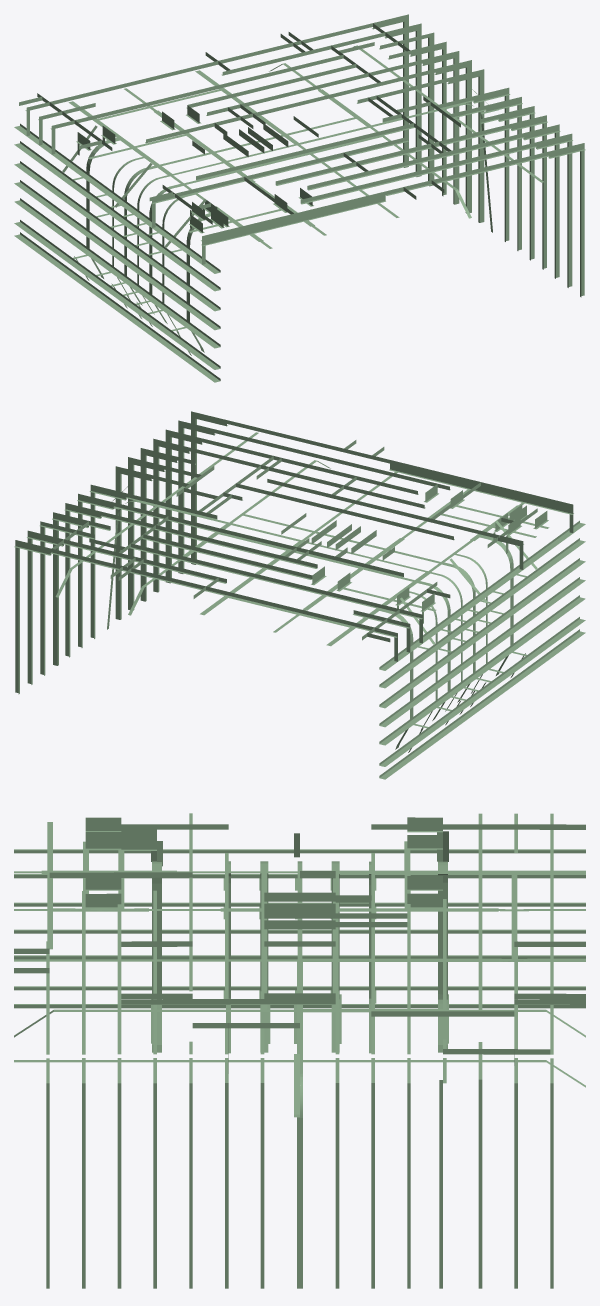
The model's file is AFT_STORE.glb.
The picture shows the model from 3 angles, top to bottom: view 1: azimuth 30°, elevation 25°; view 2: azimuth 150°, elevation 25°; view 3: azimuth 270°, elevation 25°; orthographic projection. The views are drawn at different scales.
Parts seen in each view (by area): view 1: ST_UDxAPTSxDL07xWeb_075003-TW_350x19+150x25_NVA36_2014, ST_UDxAPTSxDL07xWeb_075001-TW_350x19+150x25_NVA36_2014, ST_UDxAPTPxDL05xWeb_050003-IA_150x90x12x12_NVA_1993, ST_UDxAPTSxDL02xWeb_054003-IA_150x90x12x12_NVA_1993, ST_UDxAPTPxDL07xWeb_046003-IA_150x90x12x12_NVA_1993, ST_UDxAPTSxDL03xWeb_053003-IA_150x90x12x12_NVA_1993, ST_UDxAPTPxDL02xWeb_055003-IA_150x90x12x12_NVA_1993, ST_UDxAPTPxDL02xWeb_055005-IA_150x90x12x12_NVA_1993, ST_UDxAPTSxDL05xWeb_050003-IA_150x90x12x12_NVA_1993, ST_UDxAPTSxDL06xWeb_051003-IA_150x90x12x12_NVA_1993, ST_UDxAPTPxDL03xWeb_054003-IA_150x90x12x12_NVA_1993, ST_UDxAPTSxDL07xWeb_052003-IA_150x90x12x12_NVA_1993 (+5 smaller); view 2: ST_UDxAPTSxDL07xWeb_075003-TW_350x19+150x25_NVA36_2014, ST_UDxAPTSxDL07xWeb_075001-TW_350x19+150x25_NVA36_2014, ST_UDxAPTSxDL03xWeb_053003-IA_150x90x12x12_NVA_1993, ST_UDxAPTPxDL05xWeb_050003-IA_150x90x12x12_NVA_1993, ST_UDxAPTSxDL02xWeb_054003-IA_150x90x12x12_NVA_1993, ST_UDxAPTPxDL02xWeb_055003-IA_150x90x12x12_NVA_1993, ST_UDxAPTPxDL07xWeb_046003-IA_150x90x12x12_NVA_1993, ST_UDxAPTSxDL06xWeb_051003-IA_150x90x12x12_NVA_1993, ST_UDxAPTSxDL07xWeb_052003-IA_150x90x12x12_NVA_1993, ST_UDxAPTPxDL02xWeb_055005-IA_150x90x12x12_NVA_1993, ST_UDxAPTPxDL03xWeb_054003-IA_150x90x12x12_NVA_1993, ST_UDxAPTSxDL05xWeb_050003-IA_150x90x12x12_NVA_1993 (+5 smaller); view 3: FP_No4LBHDxAPTS_001001-T_250x19.5_NVA_2014, FP_CenterBHDxAPT_002001-T_150x12_NVA_1993, FP_No4LBHDxAPTP_001001-T_250x19.5_NVA_2014, ST_UDxAPTP_020001-FB_150x12_NVA_1993, ST_OuterShellxAPTPxFLG_035001-IA_250x90x10x15_NVA32_1993, ST_UDxAPTP_081001-FB_150x12_NVA36_2014, ST_UDxAPTS_065001-FB_150x12_NVA36_2014, ST_UDxAPTS_064001-FB_150x12_NVA36_2014, ST_UDxAPTS_014002-FB_150x12_NVA_1993, ST_OuterShellxAPTPxFLG_038001-IA_250x90x10x15_NVA32_1993, ST_OuterShellxAPTSxFLG_038002-IA_250x90x10x15_NVA32_1993, ST_OuterShellxAPTSxFLG_039002-IA_250x90x10x15_NVA32_1993 (+6 smaller).
Boxes of the visible parts, x1,y1,x2,y2 form: ST_UDxAPTSxDL07xWeb_075003-TW_350x19+150x25_NVA36_2014: (289,191,385,224); ST_UDxAPTSxDL07xWeb_075001-TW_350x19+150x25_NVA36_2014: (202,215,288,245); ST_UDxAPTPxDL05xWeb_050003-IA_150x90x12x12_NVA_1993: (138,70,278,108); ST_UDxAPTSxDL02xWeb_054003-IA_150x90x12x12_NVA_1993: (226,135,366,172); ST_UDxAPTPxDL07xWeb_046003-IA_150x90x12x12_NVA_1993: (113,52,253,89); ST_UDxAPTSxDL03xWeb_053003-IA_150x90x12x12_NVA_1993: (239,144,378,181); ST_UDxAPTPxDL02xWeb_055003-IA_150x90x12x12_NVA_1993: (176,98,315,135); ST_UDxAPTPxDL02xWeb_055005-IA_150x90x12x12_NVA_1993: (316,69,435,101); ST_UDxAPTSxDL05xWeb_050003-IA_150x90x12x12_NVA_1993: (404,133,523,165); ST_UDxAPTSxDL06xWeb_051003-IA_150x90x12x12_NVA_1993: (416,142,535,174); ST_UDxAPTPxDL03xWeb_054003-IA_150x90x12x12_NVA_1993: (303,59,422,92); ST_UDxAPTSxDL07xWeb_052003-IA_150x90x12x12_NVA_1993: (429,151,548,184); ST_UDxAPTSxDL07xWeb_075003-TW_350x19+150x25_NVA36_2014: (390,460,486,492); ST_UDxAPTSxDL07xWeb_075001-TW_350x19+150x25_NVA36_2014: (486,483,573,513); ST_UDxAPTSxDL03xWeb_053003-IA_150x90x12x12_NVA_1993: (296,486,436,523); ST_UDxAPTPxDL05xWeb_050003-IA_150x90x12x12_NVA_1993: (196,559,335,596); ST_UDxAPTSxDL02xWeb_054003-IA_150x90x12x12_NVA_1993: (284,495,423,532); ST_UDxAPTPxDL02xWeb_055003-IA_150x90x12x12_NVA_1993: (233,532,373,569); ST_UDxAPTPxDL07xWeb_046003-IA_150x90x12x12_NVA_1993: (171,578,310,615); ST_UDxAPTSxDL06xWeb_051003-IA_150x90x12x12_NVA_1993: (214,429,333,461); ST_UDxAPTSxDL07xWeb_052003-IA_150x90x12x12_NVA_1993: (227,420,346,452); ST_UDxAPTPxDL02xWeb_055005-IA_150x90x12x12_NVA_1993: (114,502,233,535); ST_UDxAPTPxDL03xWeb_054003-IA_150x90x12x12_NVA_1993: (101,512,220,544); ST_UDxAPTSxDL05xWeb_050003-IA_150x90x12x12_NVA_1993: (202,438,321,470); FP_No4LBHDxAPTS_001001-T_250x19.5_NVA_2014: (152,861,161,993); FP_CenterBHDxAPT_002001-T_150x12_NVA_1993: (297,1121,302,1263); FP_No4LBHDxAPTP_001001-T_250x19.5_NVA_2014: (438,861,447,993); ST_UDxAPTP_020001-FB_150x12_NVA_1993: (371,824,488,829); ST_OuterShellxAPTPxFLG_035001-IA_250x90x10x15_NVA32_1993: (300,850,488,853); ST_UDxAPTP_081001-FB_150x12_NVA36_2014: (407,1011,514,1016); ST_UDxAPTS_065001-FB_150x12_NVA36_2014: (192,999,299,1004); ST_UDxAPTS_064001-FB_150x12_NVA36_2014: (192,1023,299,1028); ST_UDxAPTS_014002-FB_150x12_NVA_1993: (111,824,228,829); ST_OuterShellxAPTPxFLG_038001-IA_250x90x10x15_NVA32_1993: (302,930,488,933); ST_OuterShellxAPTSxFLG_038002-IA_250x90x10x15_NVA32_1993: (111,930,297,933); ST_OuterShellxAPTSxFLG_039002-IA_250x90x10x15_NVA32_1993: (111,956,297,959).
Bounding box in the file's own units: 15.85 × 6.05 × 14.4.
